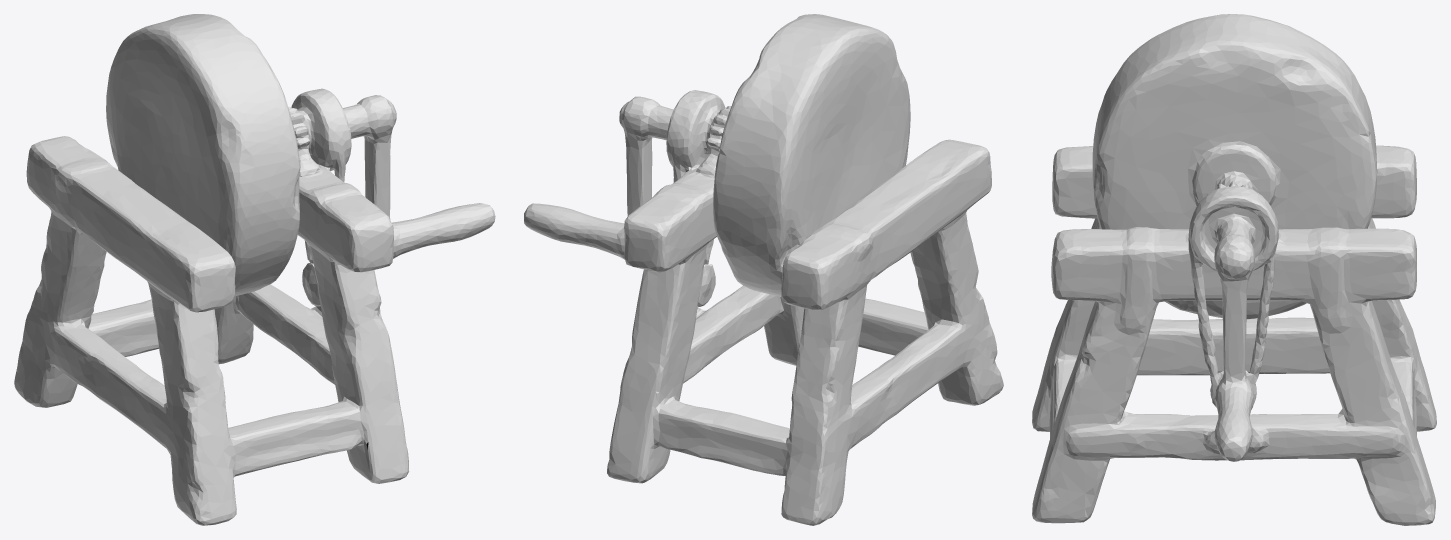
Rendered from grindstone01.glb.
3 views of the same model, side by side, from view 1: azimuth 30°, elevation 25°; view 2: azimuth 150°, elevation 25°; view 3: azimuth 270°, elevation 25° (orthographic). The views are drawn at different scales.
Visible parts, largest first — view 1: Low; view 2: Low; view 3: Low.
Part boxes in pixels (x1,y1,x2,y2): Low: [14, 14, 495, 525]; Low: [524, 14, 1003, 525]; Low: [1032, 14, 1436, 525].
Size of the model in its own units: 1.96 by 1.99 by 1.66.
1 material, 1 textured.
